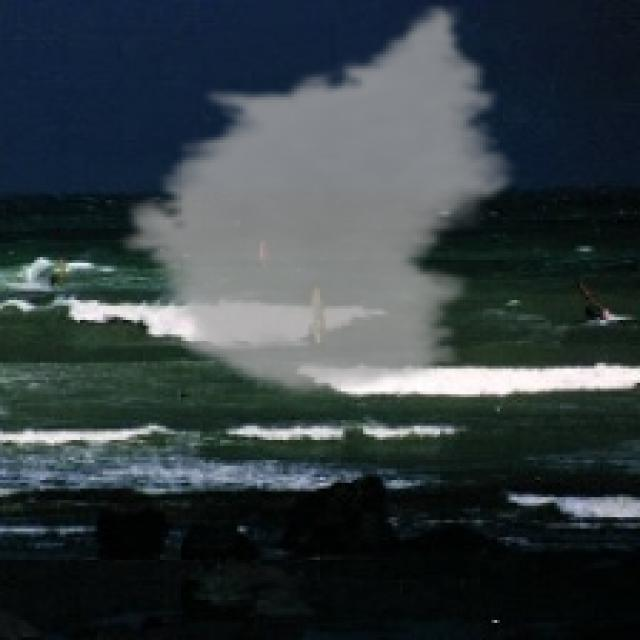smoke: (114, 3, 526, 400)
